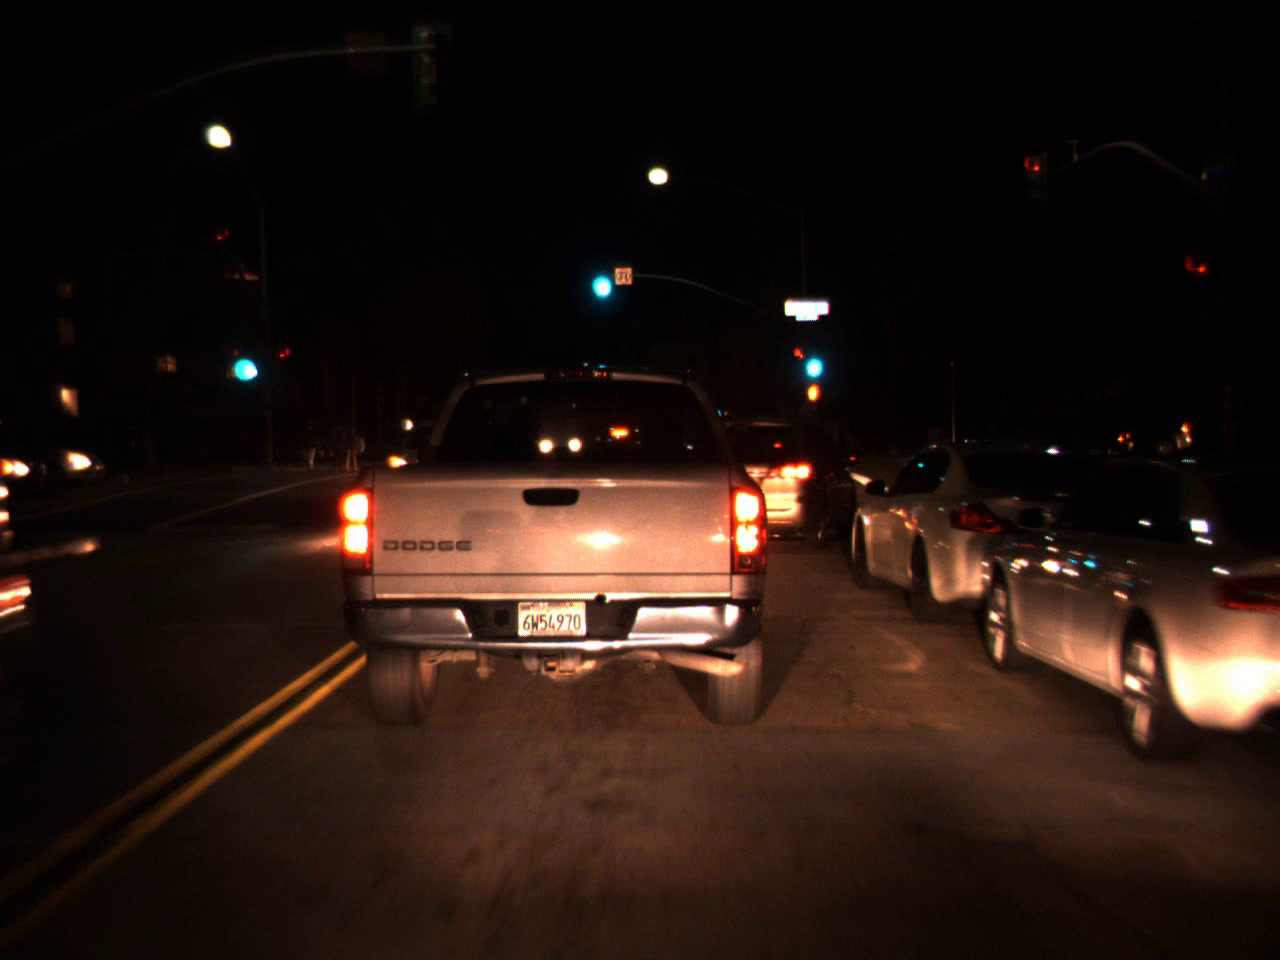go: (226, 330, 262, 390), (586, 249, 614, 306), (799, 332, 826, 386)
